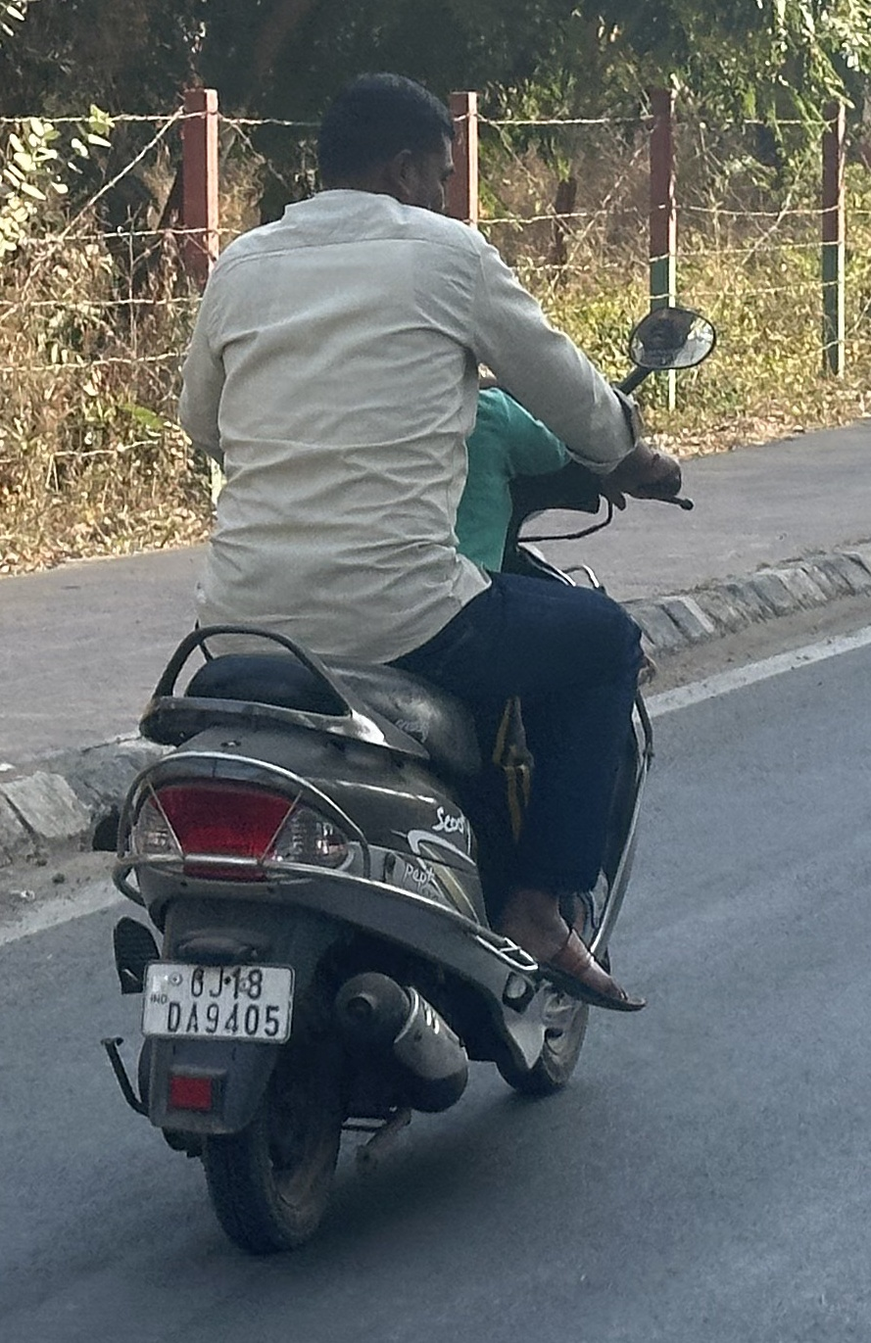BikeWithRider: (89, 68, 719, 1269)
NoHelmet: (303, 66, 470, 240)
